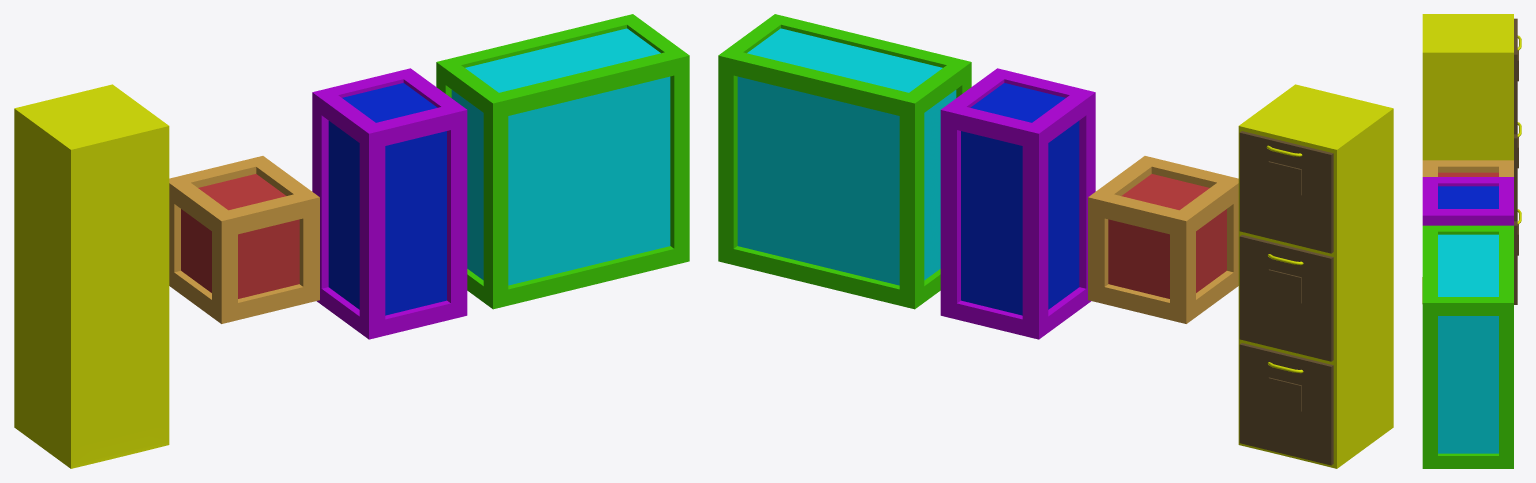
File: CratesAndCabnets.fbx
3 views of the same model, side by side, from view 1: azimuth 30°, elevation 25°; view 2: azimuth 150°, elevation 25°; view 3: azimuth 270°, elevation 25° (orthographic). The views are drawn at different scales.
Parts seen in each view (by area): view 1: TallDoubleCrate, FilingCabinet, TallCrate, SmallCrate; view 2: TallDoubleCrate, FilingCabinet, TallCrate, SmallCrate; view 3: TallDoubleCrate, FilingCabinet, TallCrate, SmallCrate.
Boxes of the visible parts, <box> form: TallDoubleCrate: <box>436,14,689,309</box>; FilingCabinet: <box>14,84,169,468</box>; TallCrate: <box>312,68,467,339</box>; SmallCrate: <box>169,156,319,323</box>; TallDoubleCrate: <box>718,14,971,309</box>; FilingCabinet: <box>1238,84,1393,468</box>; TallCrate: <box>940,68,1095,339</box>; SmallCrate: <box>1088,156,1238,323</box>; TallDoubleCrate: <box>1422,225,1513,468</box>; FilingCabinet: <box>1422,14,1521,304</box>; TallCrate: <box>1422,177,1513,225</box>; SmallCrate: <box>1422,160,1513,176</box>.
Bounding box in the file's own units: 6.29 × 3.1 × 1.08.
